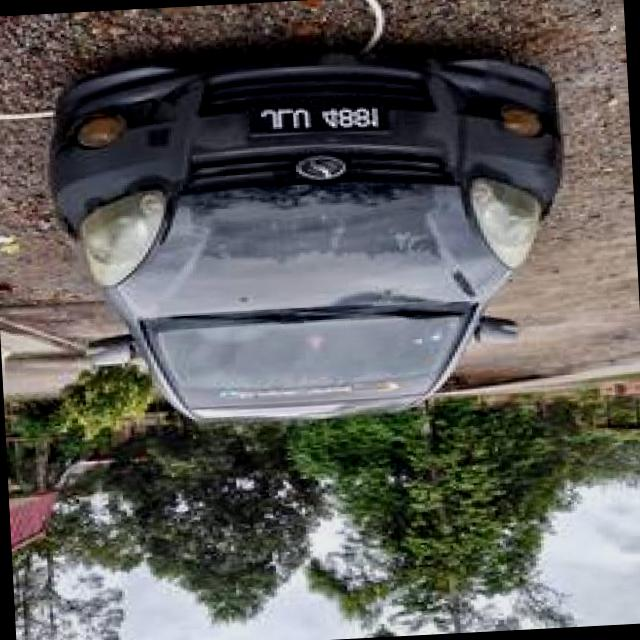PeroduaMyvi: (39, 35, 578, 437)
